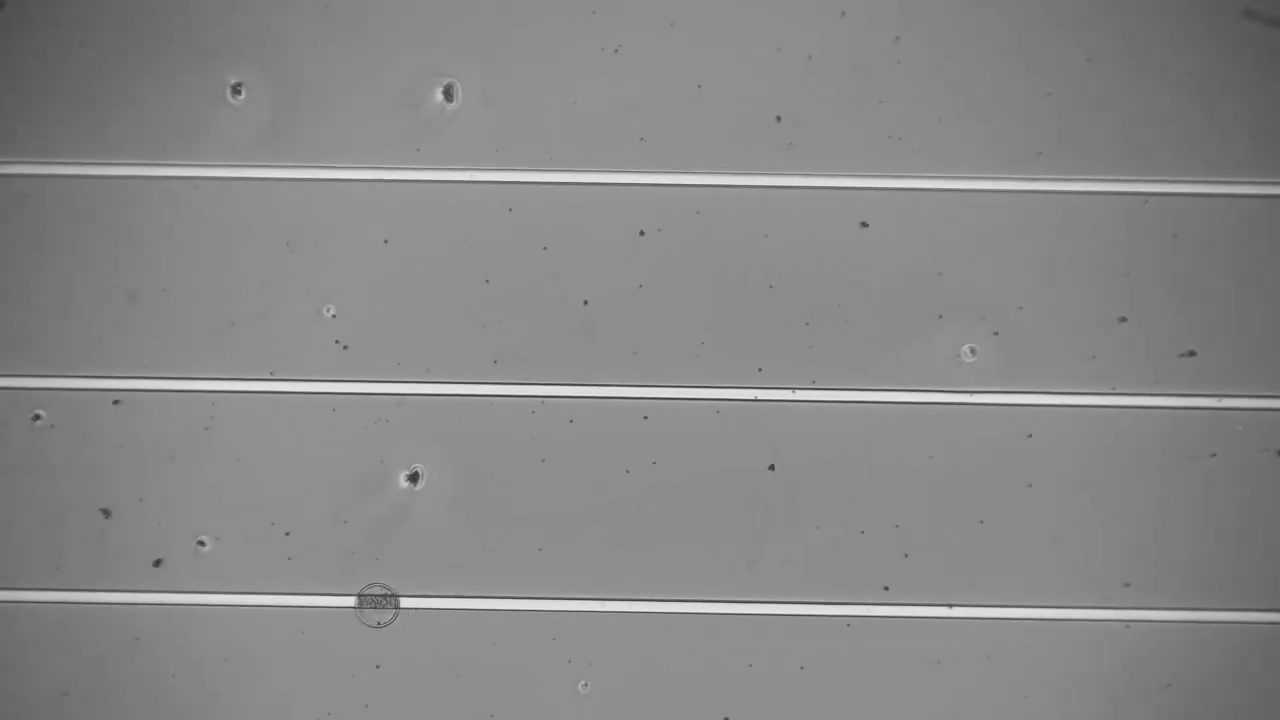gray_line: (343, 583, 411, 616)
